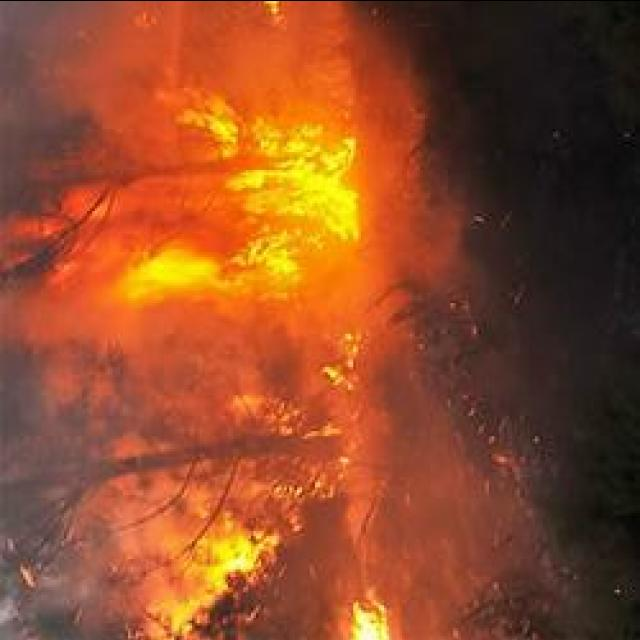fire: (118, 508, 282, 626), (276, 164, 338, 215), (144, 248, 204, 294), (346, 602, 398, 640)
smoke: (394, 393, 544, 605), (348, 4, 440, 232), (0, 0, 143, 115)
